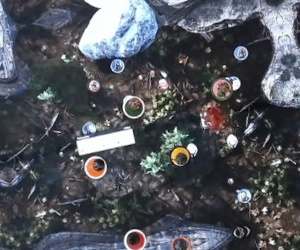giant_red_octopus: (196, 103, 223, 130)
green: (119, 93, 146, 120)
light_blue_orange: (162, 231, 194, 248)
orange: (80, 152, 108, 180)
pink_green: (207, 75, 235, 102)
red: (120, 223, 149, 250)
yellow_night_blue: (165, 143, 192, 170)
